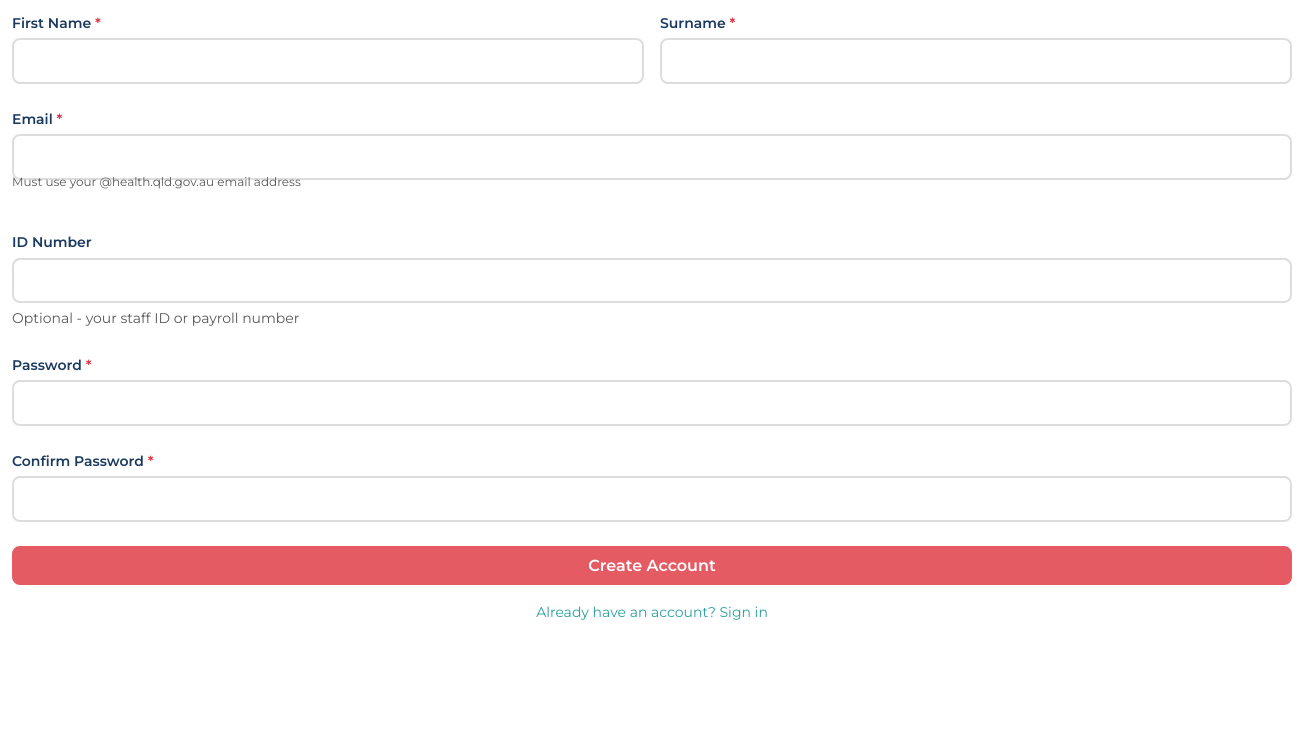
Test: RegisterForm › validates email domain
In the field labelled "First Name *": x=328, y=61 [12,38,644,84], type "J"
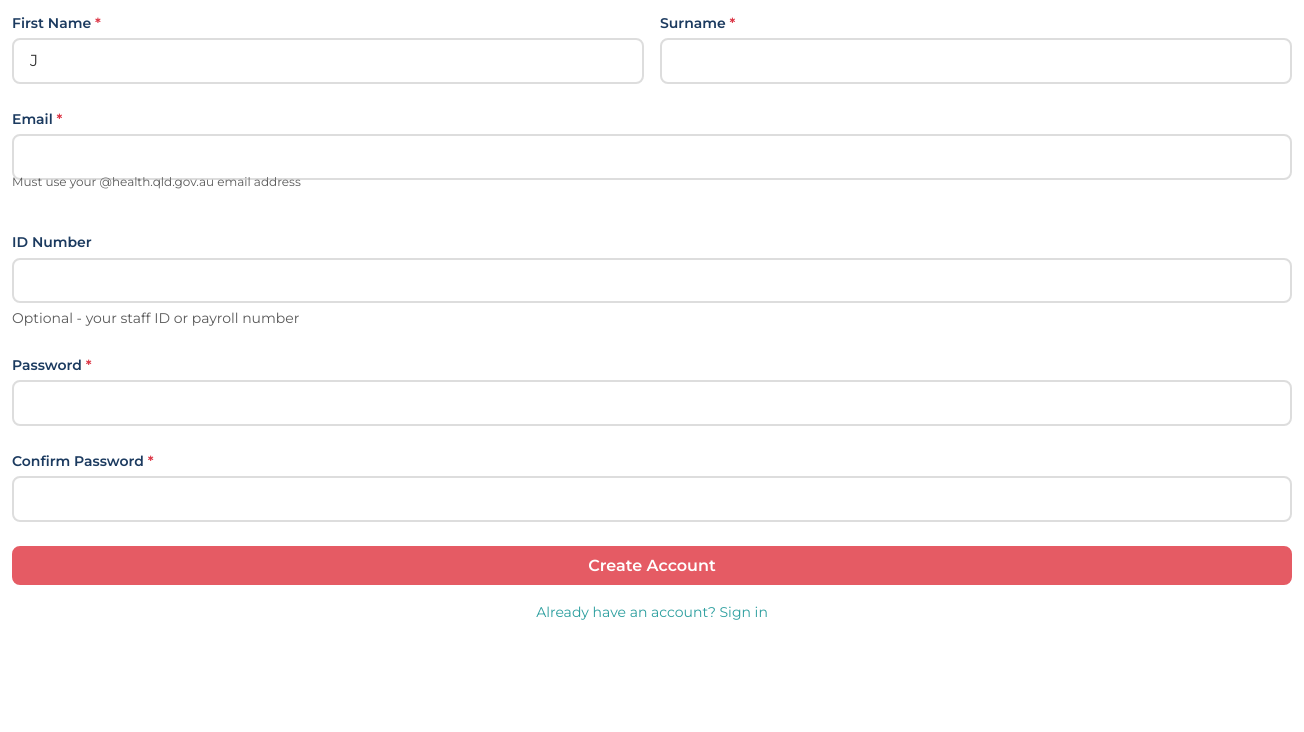
In the field labelled "Surname *": x=976, y=61 [660,38,1292,84], type "D"
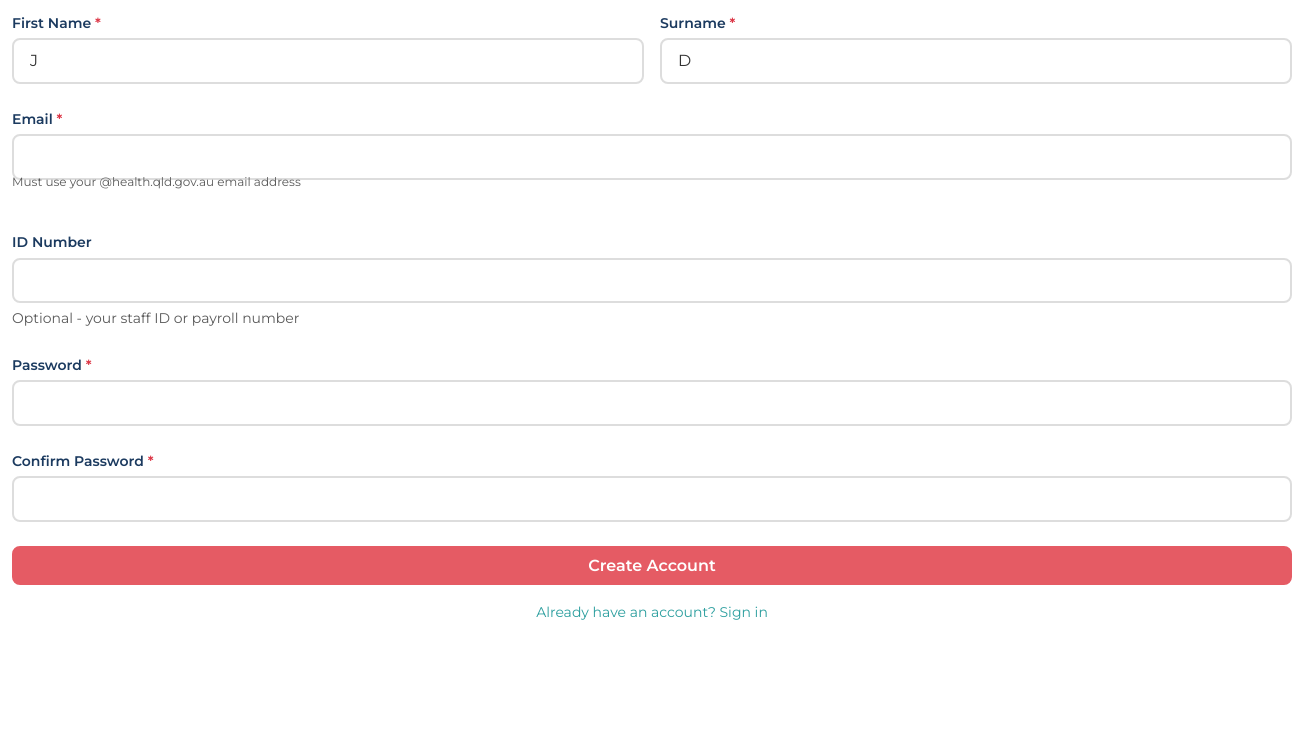
In the field labelled "Email *": x=652, y=157 [12,134,1292,180], type "j@gmail.com"
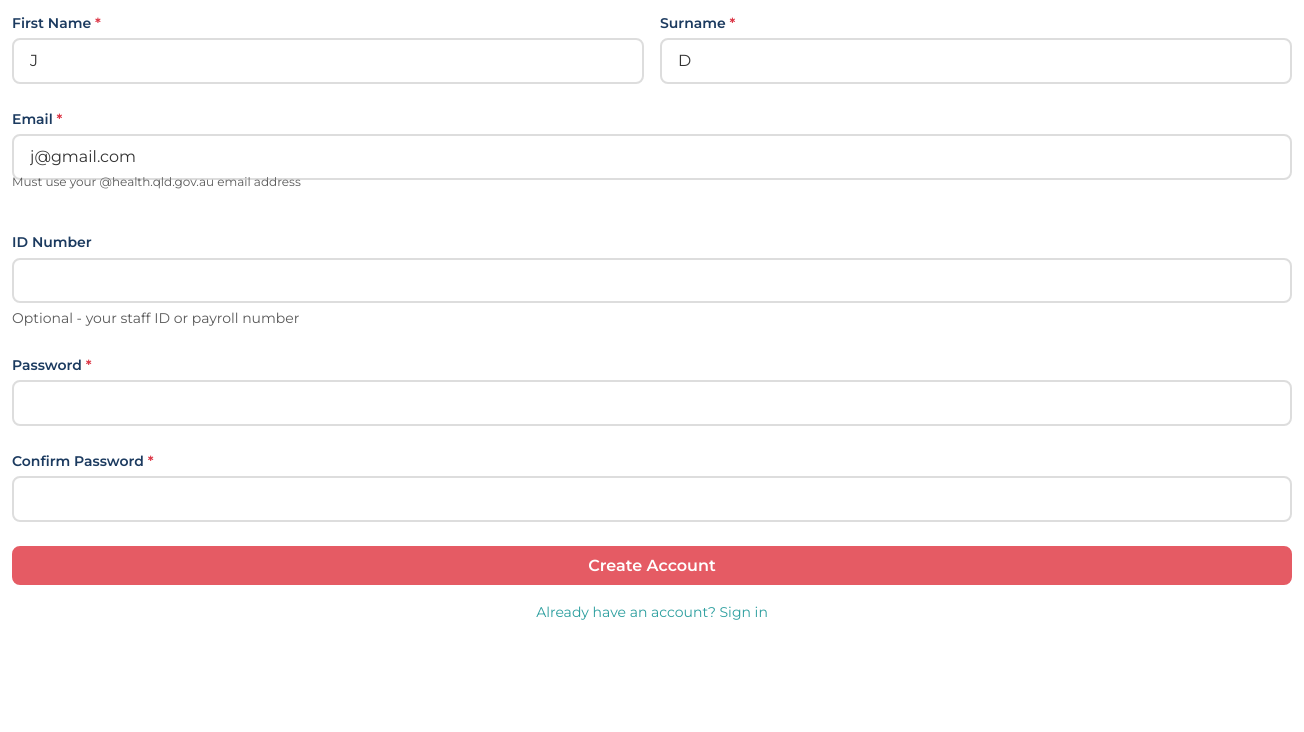
In the password field labelled "Password *": x=652, y=403 [12,380,1292,426], type "Password1!"
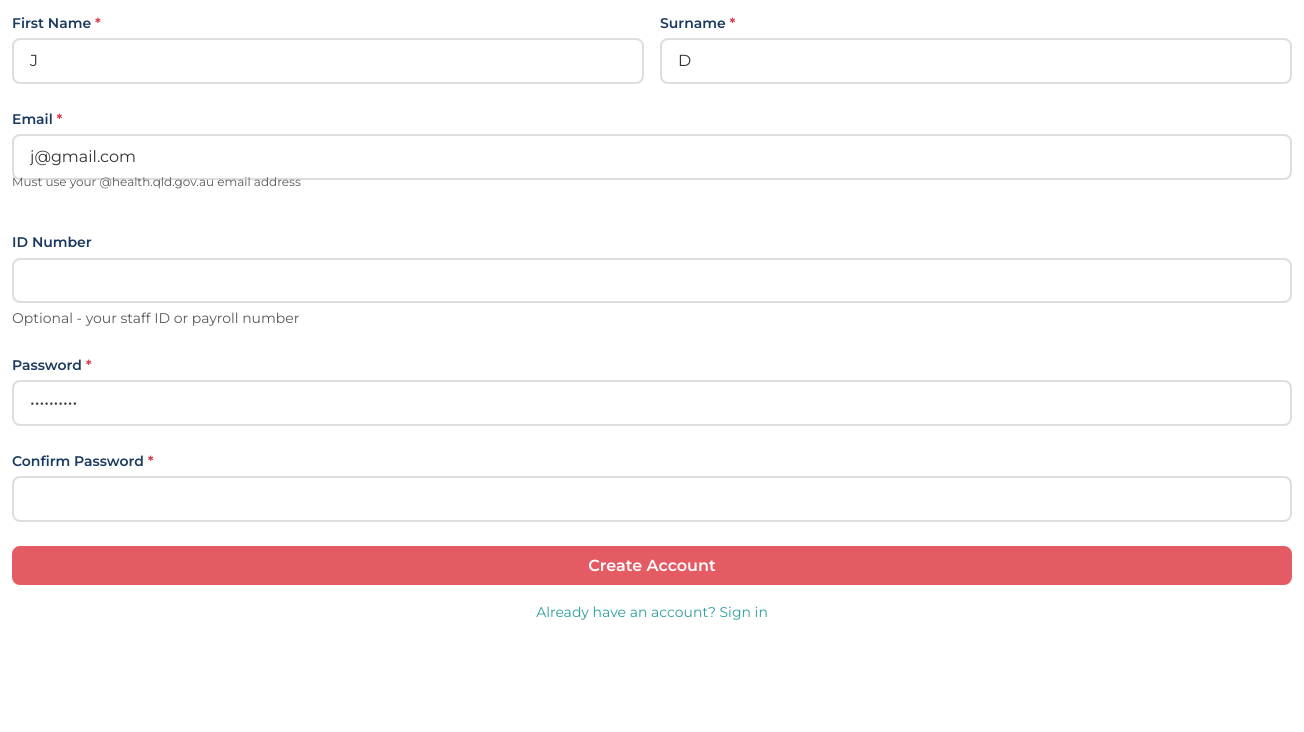
In the password field labelled "Confirm Password *": x=652, y=499 [12,476,1292,522], type "Password1!"
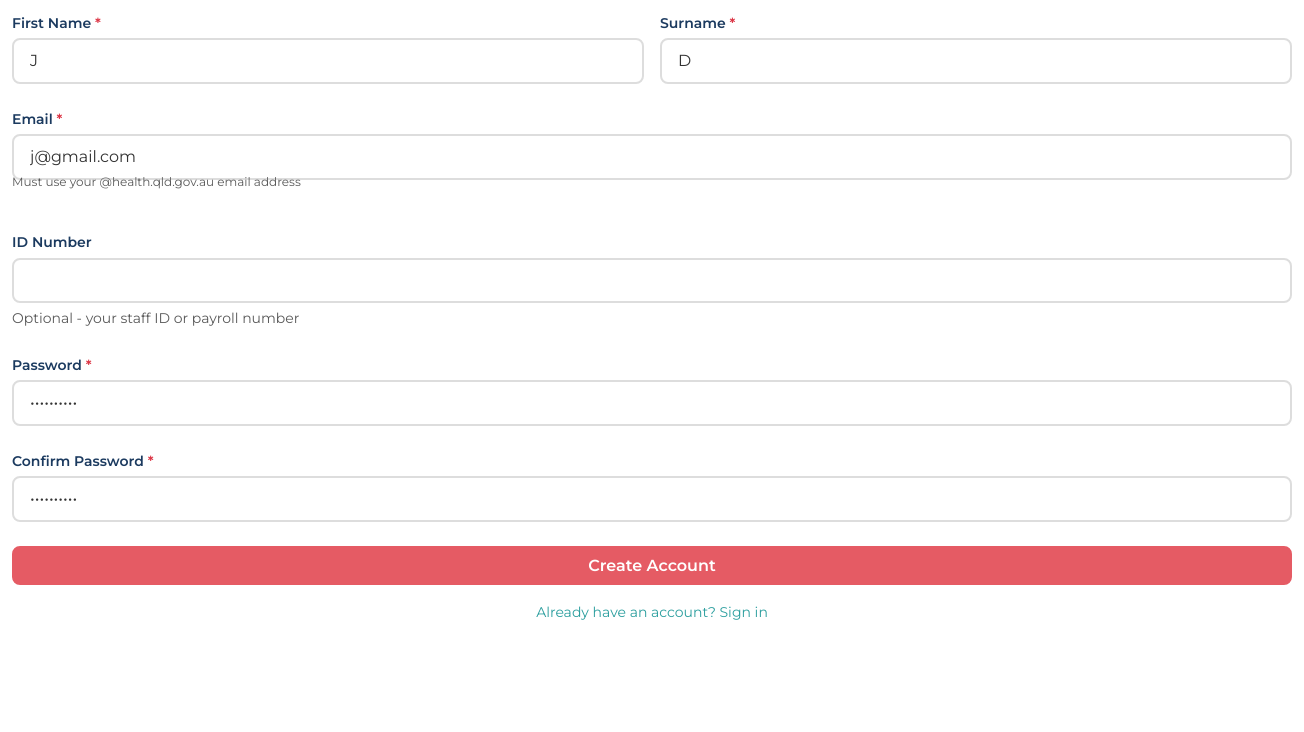
Click the button "Create Account": x=652, y=565 [12,546,1292,584]
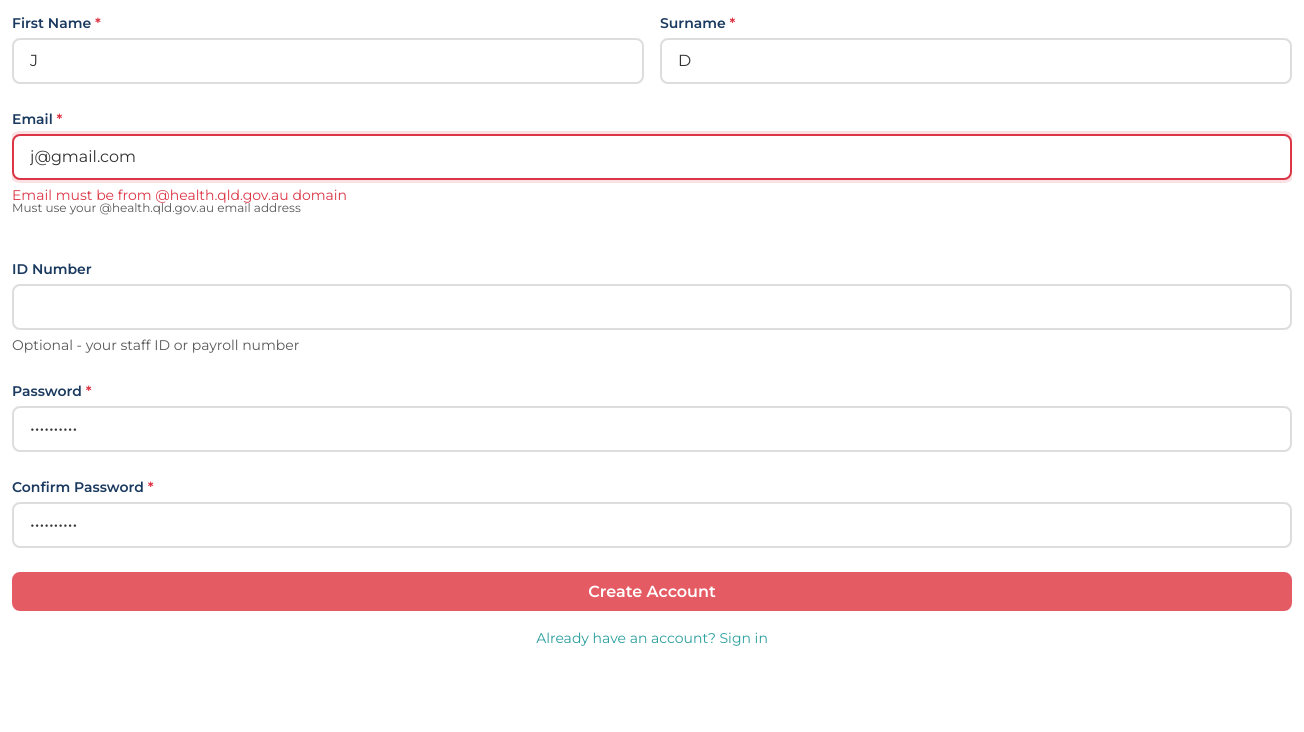
Result: the text "Email must be from @health.qld.gov.au domain" is shown at [12,186,347,204]
